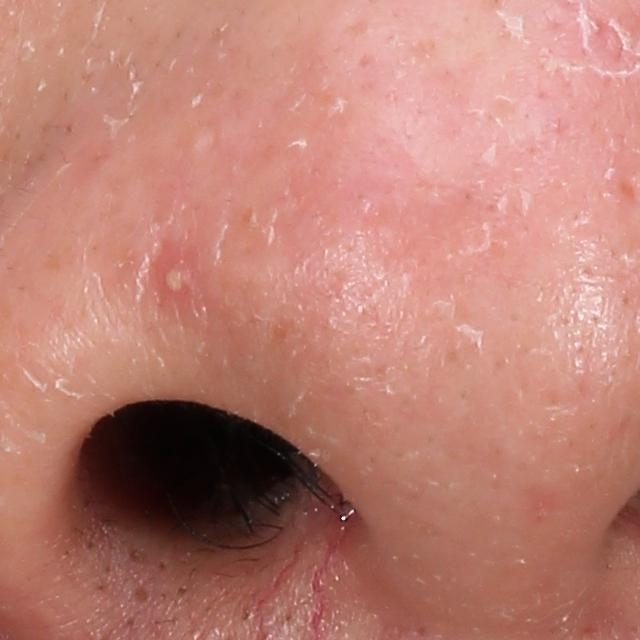pustule: (149, 239, 209, 311)
